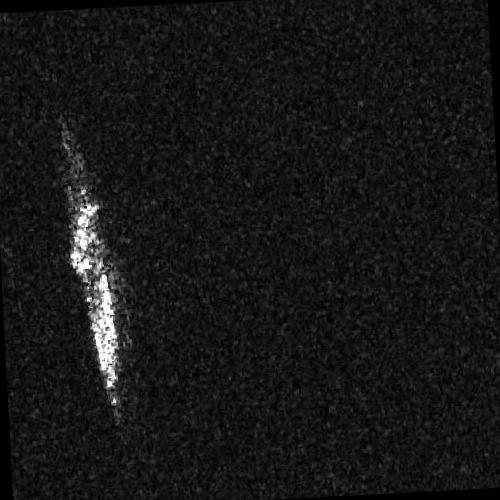ship: (64, 174, 122, 410)
